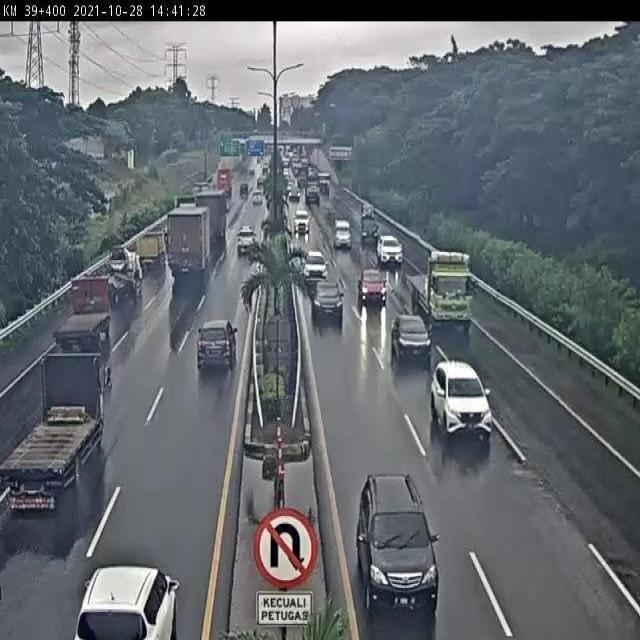Car: (354, 473, 440, 624), (72, 564, 180, 639), (431, 358, 492, 445), (392, 313, 433, 372), (196, 319, 238, 373), (310, 280, 344, 327), (358, 268, 388, 307), (376, 234, 403, 266), (303, 248, 327, 281), (236, 226, 256, 254), (334, 219, 352, 249), (294, 208, 310, 235), (306, 183, 320, 206), (288, 185, 301, 202), (252, 190, 263, 205), (239, 182, 249, 198)
Truck: (0, 342, 106, 512), (409, 248, 473, 342), (56, 276, 116, 358), (165, 204, 212, 288), (193, 188, 229, 264), (104, 245, 142, 304), (136, 230, 167, 270), (256, 175, 264, 189)
